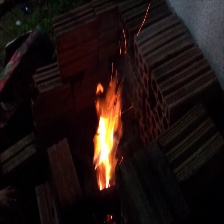fire: (86, 76, 128, 196)
